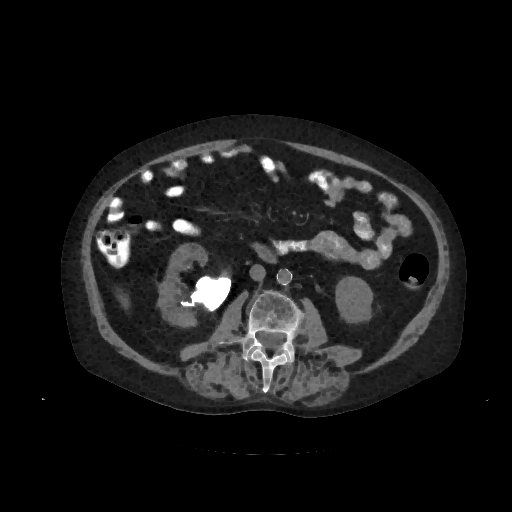Lesion: (179, 273, 234, 312)
